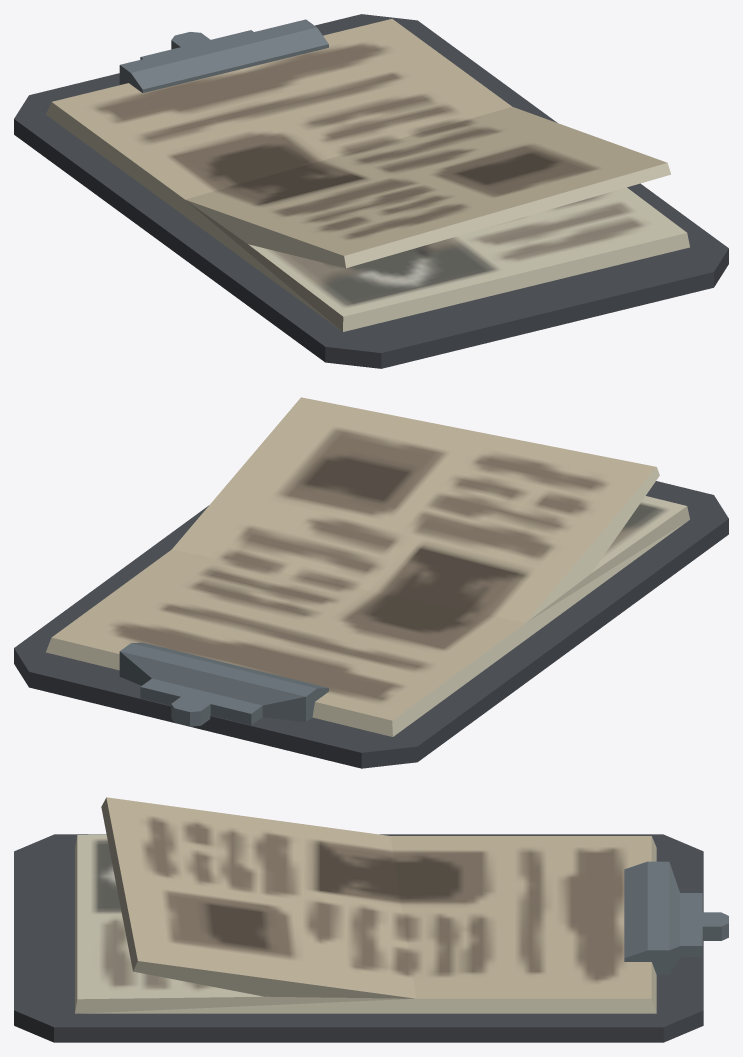
The model's file is SM_Prop_Clipboard_01.fbx.
3 renders of one model, top to bottom at view 1: azimuth 30°, elevation 25°; view 2: azimuth 150°, elevation 25°; view 3: azimuth 270°, elevation 25°, orthographic. The views are drawn at different scales.
Visible parts, largest first — view 1: SM_Prop_Clipboard_01; view 2: SM_Prop_Clipboard_01; view 3: SM_Prop_Clipboard_01.
Boxes of the visible parts, x1,y1,x2,y2 form: SM_Prop_Clipboard_01: (14,14,728,368); SM_Prop_Clipboard_01: (14,397,728,768); SM_Prop_Clipboard_01: (14,797,728,1042).
Bounding box in the file's own units: 27.58 × 4.96 × 43.22.
